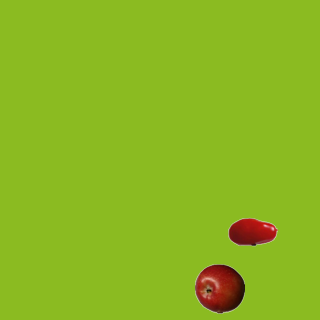Apple Braeburn: (194, 263, 244, 313)
Tomato 2: (227, 206, 277, 256)
